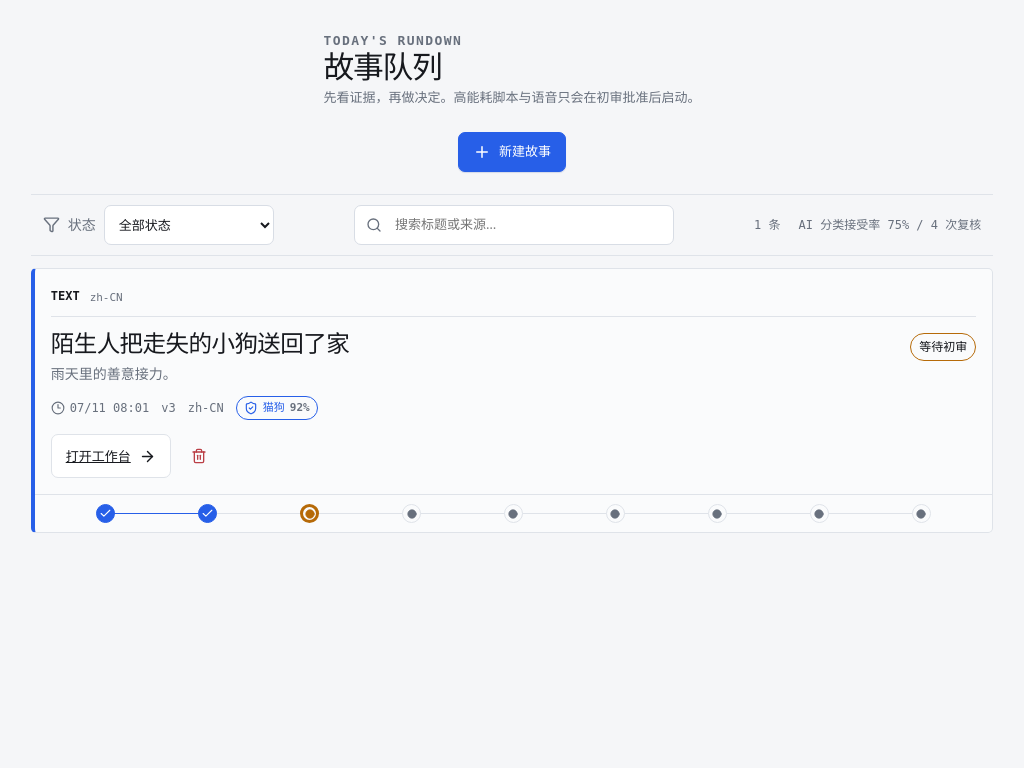
Test case: StoryListPage › shows the production state and opens an accessible ingest dialog
Expected: the heading "陌生人把走失的小狗送回了家" is shown, [51,331,349,357]
Expected: the text "等待初审" is shown, [910,333,976,361]
Click the button "新建故事" at coordinates (512, 152), box [458,132,566,172]
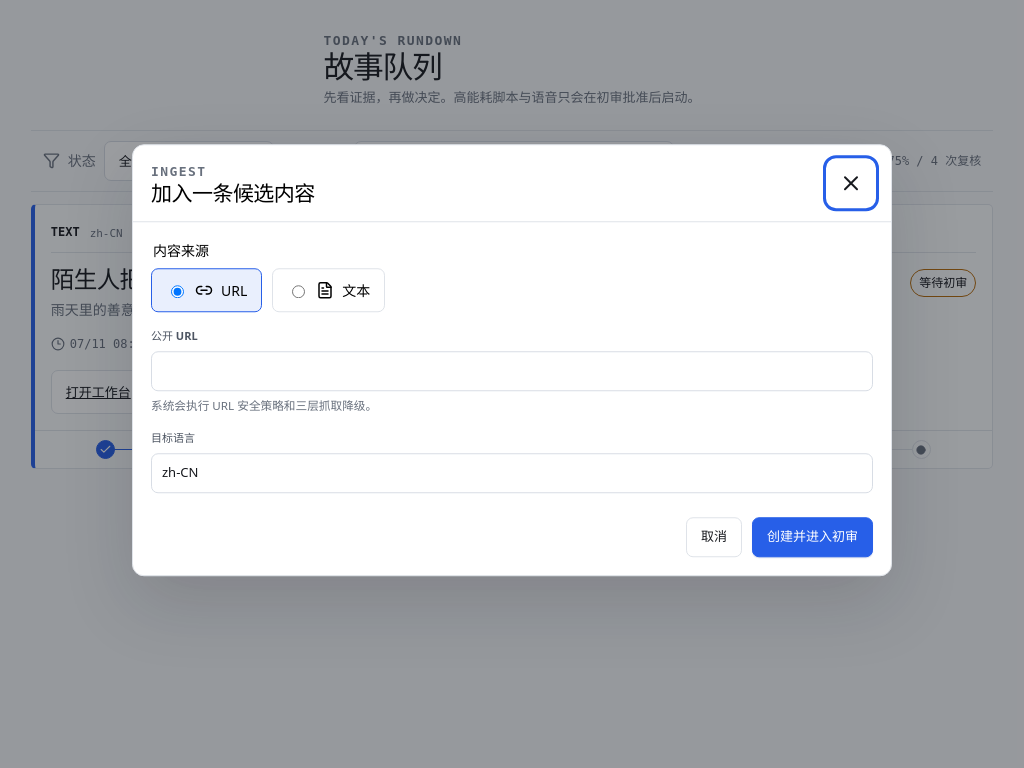
Result: the dialog "加入一条候选内容" is shown at [132,144,892,576]
